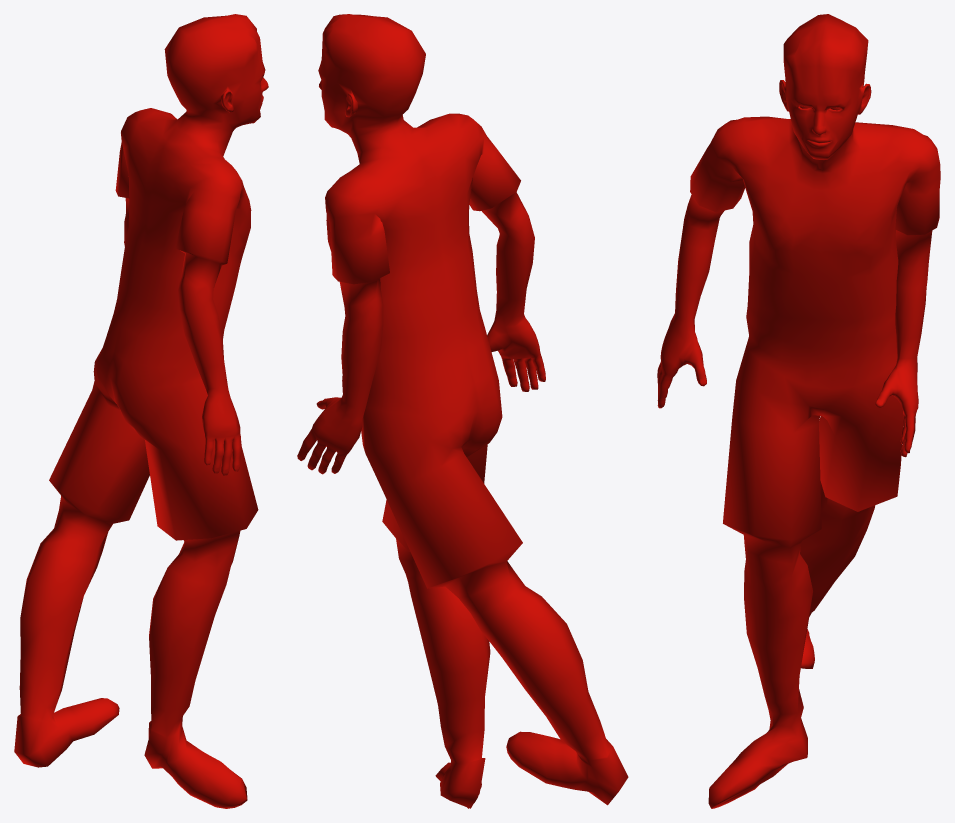
File: player_000046.obj
3 views of the same model, side by side, from view 1: azimuth 30°, elevation 25°; view 2: azimuth 150°, elevation 25°; view 3: azimuth 270°, elevation 25° (orthographic). The views are drawn at different scales.
Parts seen in each view (by area): view 1: soccerplayer.002_mesh.003; view 2: soccerplayer.002_mesh.003; view 3: soccerplayer.002_mesh.003.
Part boxes in pixels (<box>): soccerplayer.002_mesh.003: <box>14,14,268,808</box>; soccerplayer.002_mesh.003: <box>297,14,628,808</box>; soccerplayer.002_mesh.003: <box>657,14,940,808</box>.
Size of the model in its own units: 1.12 by 3 by 0.9609.
